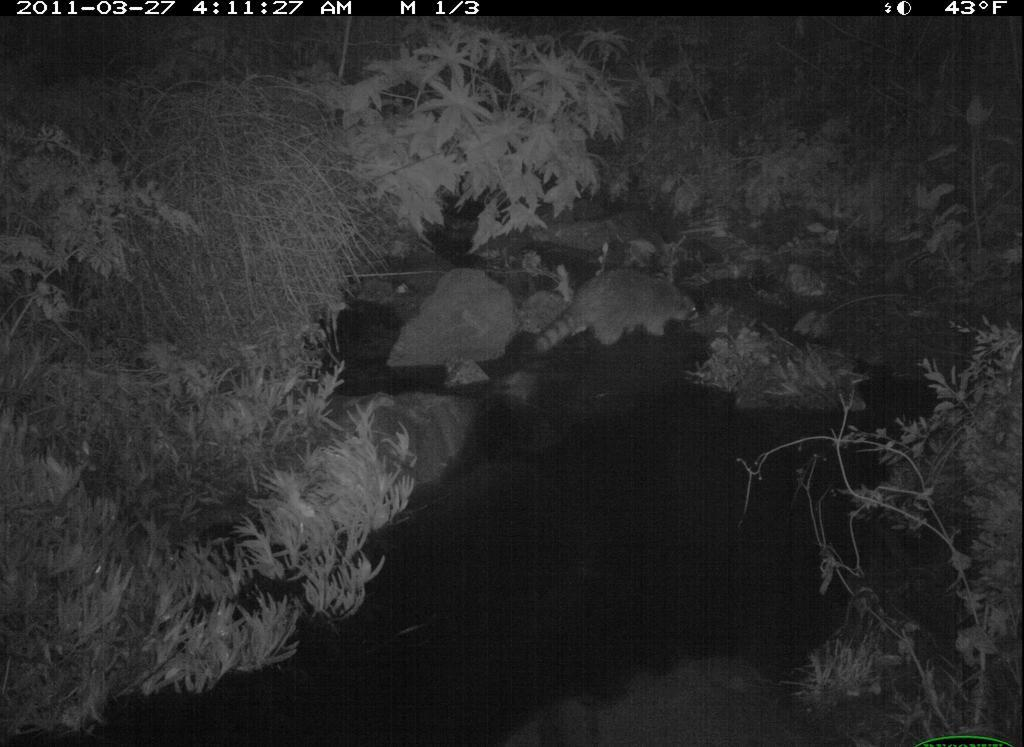raccoon: (521, 265, 713, 364)
